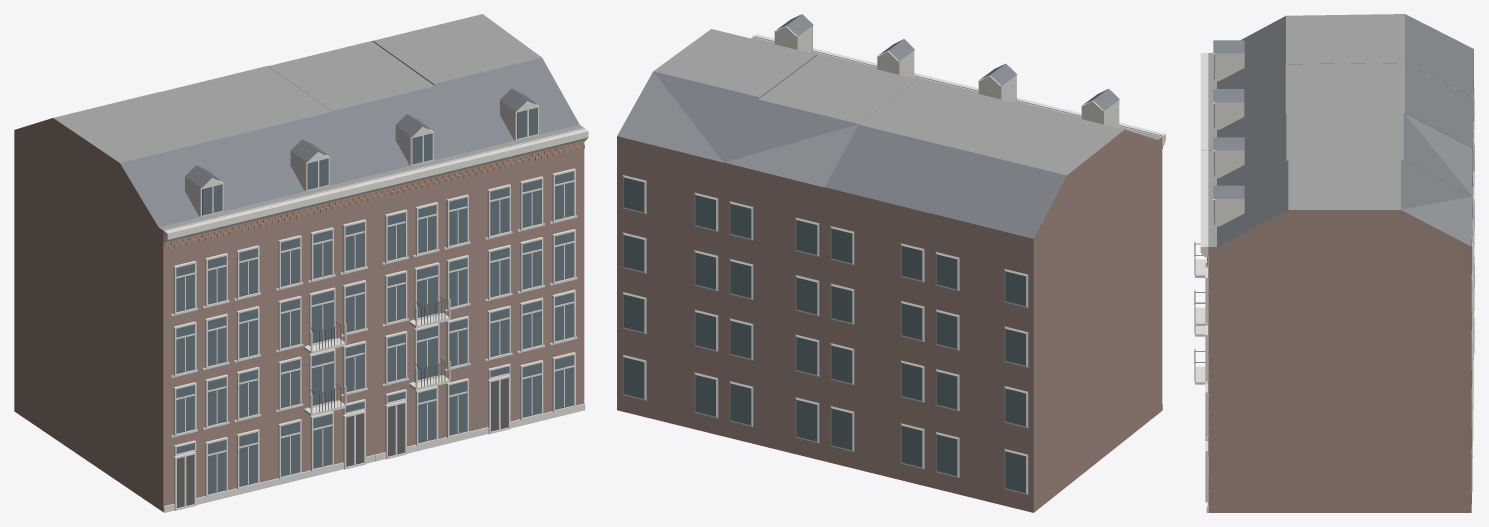
Rendered from chunk-face-florisz-2-10-r1.glb.
3 views of the same model, side by side, from view 1: azimuth 30°, elevation 25°; view 2: azimuth 150°, elevation 25°; view 3: azimuth 270°, elevation 25° (orthographic). The views are drawn at different scales.
Parts seen in each view (by area): view 1: face-florisz-2-10-r1; view 2: face-florisz-2-10-r1; view 3: face-florisz-2-10-r1.
Part boxes in pixels (x1,y1,x2,y2): face-florisz-2-10-r1: (14, 14, 588, 512); face-florisz-2-10-r1: (617, 14, 1165, 512); face-florisz-2-10-r1: (1194, 14, 1474, 512).
Size of the model in its own units: 21.41 by 15.28 by 12.81.
